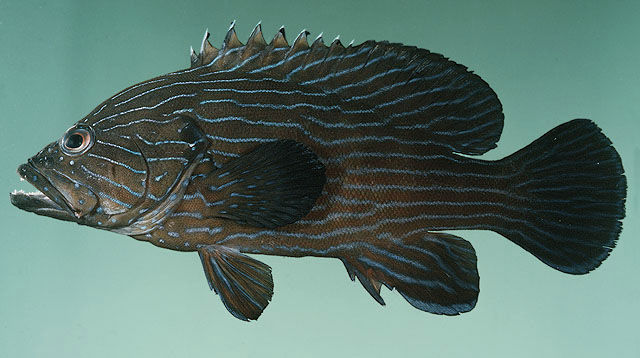fish: (11, 21, 628, 322)
